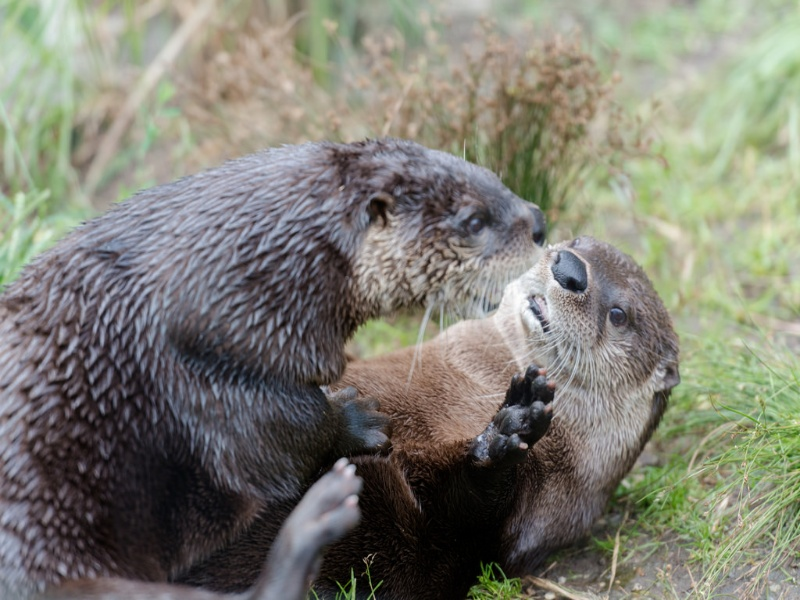minkish: (1, 133, 549, 592), (314, 238, 683, 565)
